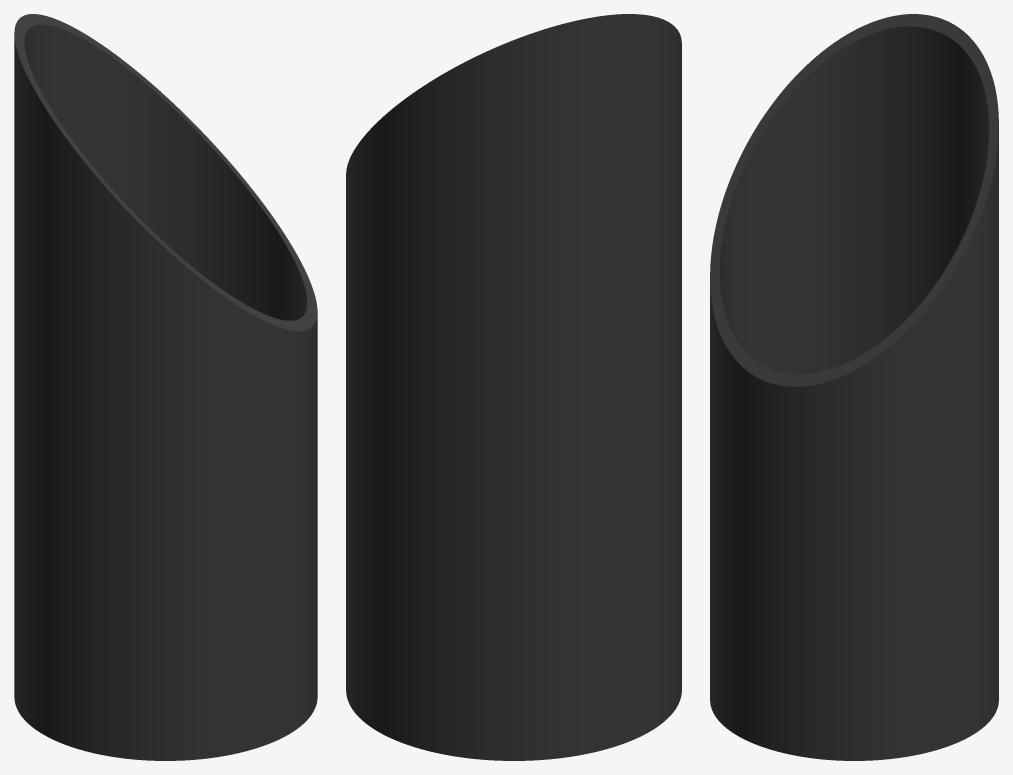
Rendered from pawn-black-hd.glb.
The picture shows the model from 3 angles, left to right: view 1: azimuth 30°, elevation 25°; view 2: azimuth 150°, elevation 25°; view 3: azimuth 270°, elevation 25°; orthographic projection. The views are drawn at different scales.
Parts seen in each view (by area): view 1: 05_pesec_cerna; view 2: 05_pesec_cerna; view 3: 05_pesec_cerna.
Boxes of the visible parts, x1,y1,x2,y2 form: 05_pesec_cerna: (14, 14, 317, 760); 05_pesec_cerna: (346, 14, 681, 760); 05_pesec_cerna: (710, 14, 998, 760).
Size of the model in its own units: 0.4634 by 1.12 by 0.4634.
1 material, 1 textured.
